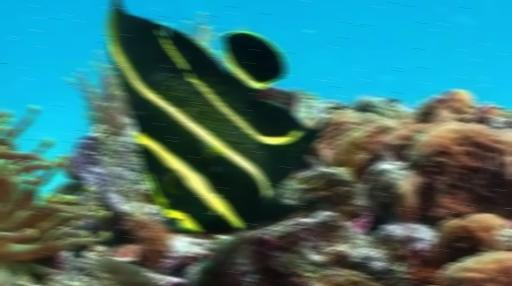Fish: (107, 0, 324, 232)
